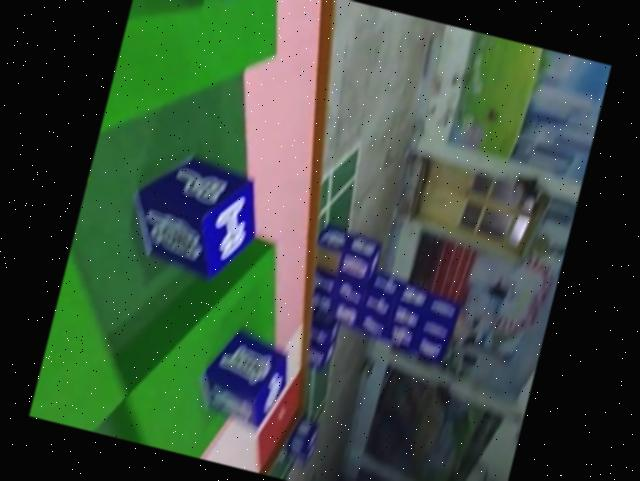R2 Fake Blue: (118, 144, 270, 286), (196, 329, 295, 432), (136, 0, 294, 17)
